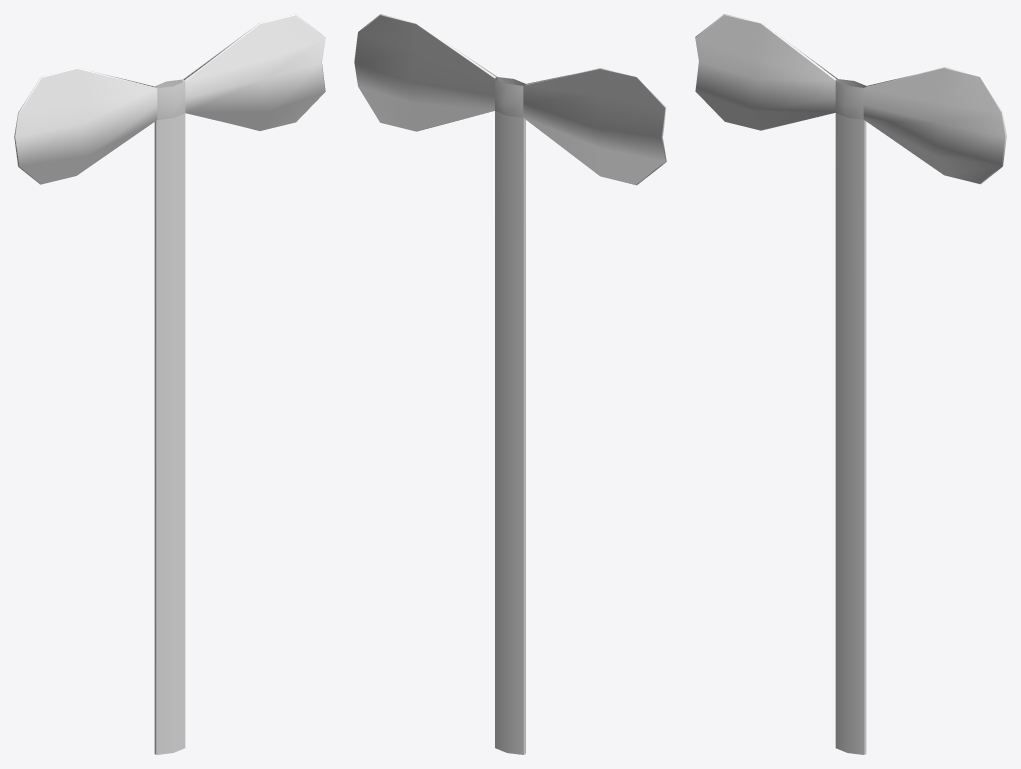
The model's file is Beeyond_Kite_Tail_Fatterer.fbx.
3 renders of one model, left to right at view 1: azimuth 30°, elevation 25°; view 2: azimuth 150°, elevation 25°; view 3: azimuth 330°, elevation 25°, orthographic.
Parts seen in each view (by area): view 1: Kite_Tail; view 2: Kite_Tail; view 3: Kite_Tail.
Boxes of the visible parts, x1,y1,x2,y2 form: Kite_Tail: [14, 14, 325, 754]; Kite_Tail: [354, 14, 666, 754]; Kite_Tail: [695, 14, 1006, 754].
Bounding box in the file's own units: 10.14 × 22.18 × 1.02.
